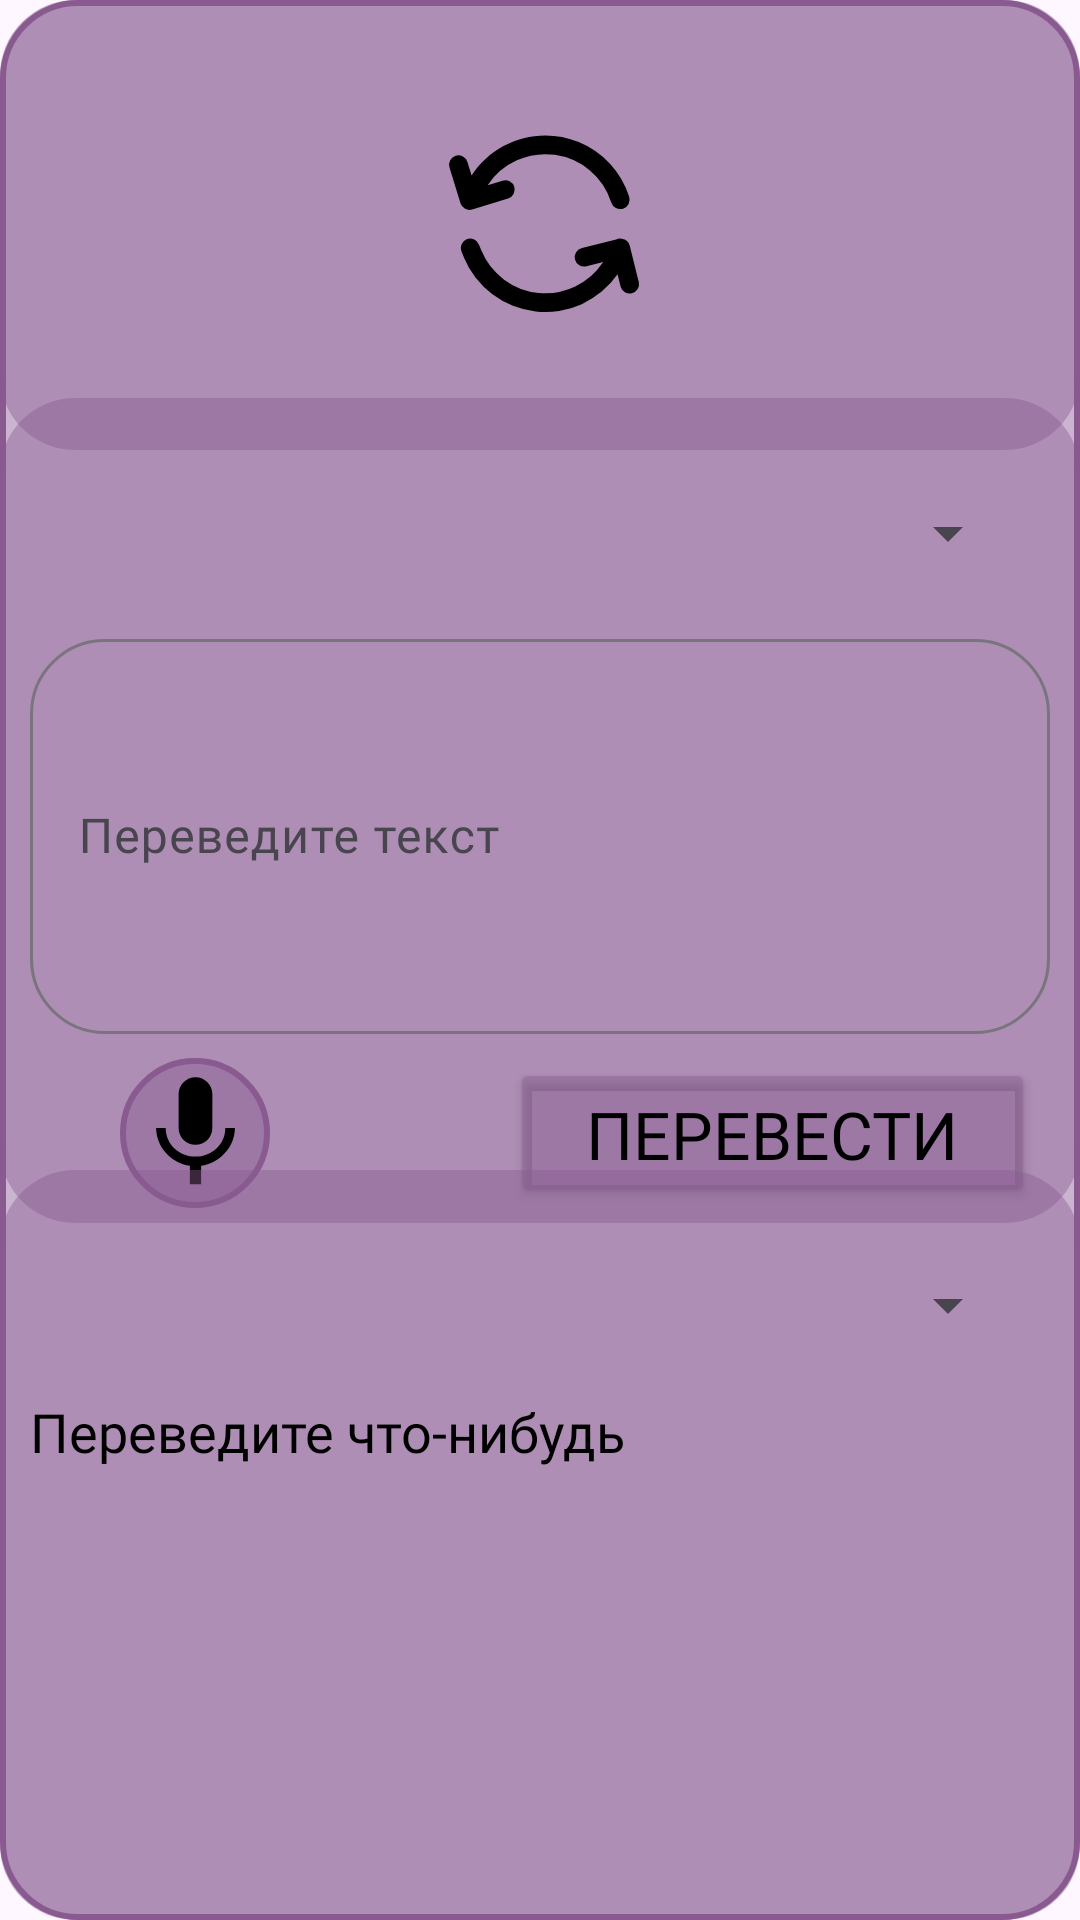

Icon click points for this 1080 x 1920 phone screenshot, format point (x, y):
mic: point (195, 1133)
translator reverse: point (544, 223)
